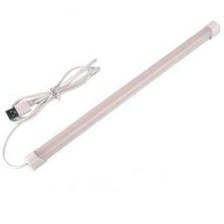light_bulb: (19, 16, 224, 173)
